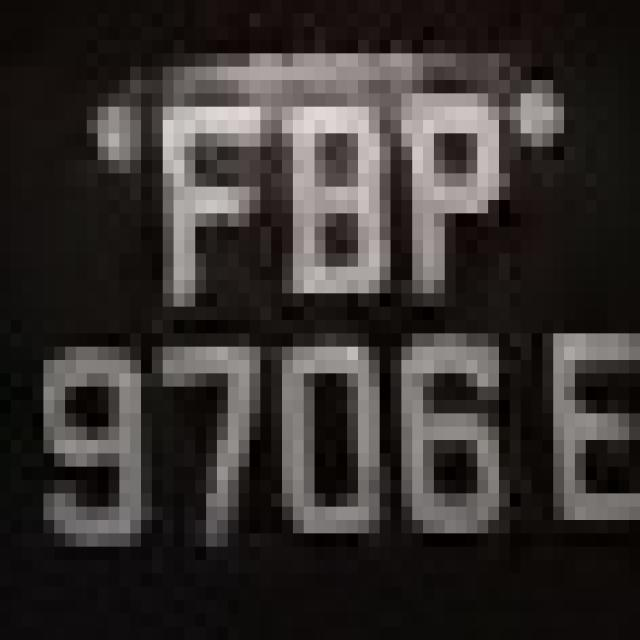0: (228, 293, 369, 587)
6: (358, 280, 531, 560)
7: (130, 294, 271, 614)
9: (0, 306, 163, 586)
B: (250, 66, 412, 306)
E: (520, 293, 640, 626)
F: (141, 53, 260, 347)
P: (390, 66, 520, 306)
